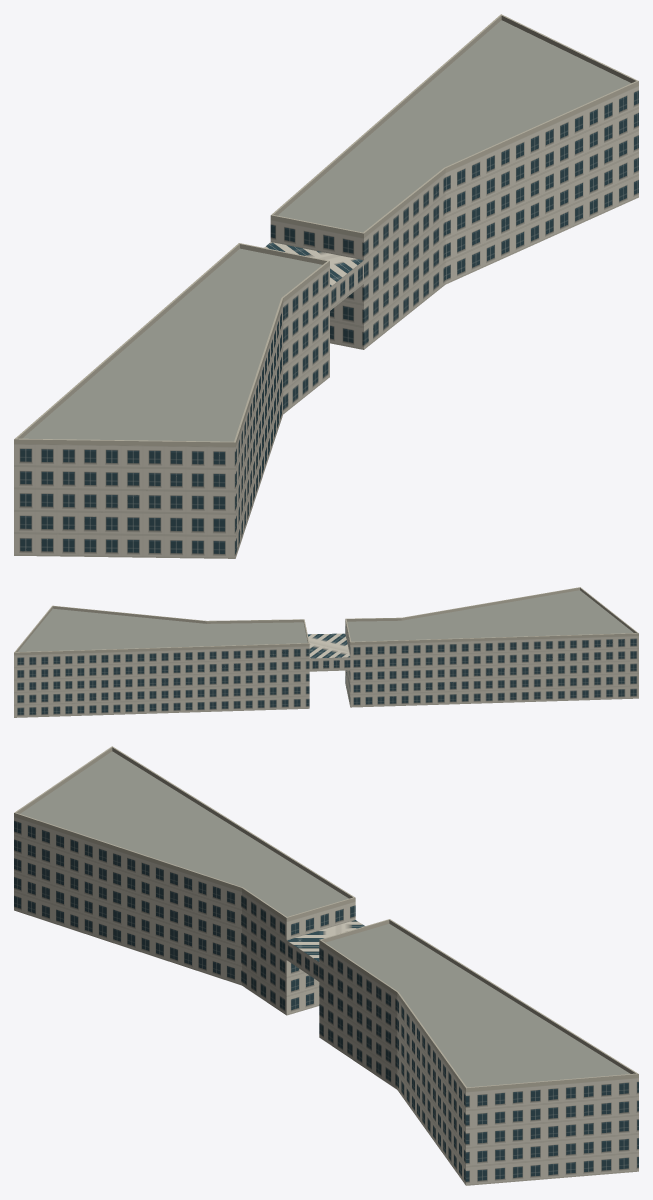
3 views of the same model, one above another, from view 1: azimuth 30°, elevation 25°; view 2: azimuth 150°, elevation 25°; view 3: azimuth 270°, elevation 25° (orthographic). The views are drawn at different scales.
Visible parts, largest first — view 1: B14_admin, B14_admin_1, B14_admin_parapet_1, B14_admin_parapet, B14_admin_upper_bridge; view 2: B14_admin_1, B14_admin, B14_admin_parapet_1, B14_admin_parapet, B14_admin_upper_bridge; view 3: B14_admin_1, B14_admin, B14_admin_parapet, B14_admin_parapet_1, B14_admin_upper_bridge.
Boxes of the visible parts, box(x1,y1,x2,y2) form: B14_admin: box(14, 248, 329, 558); B14_admin_1: box(270, 20, 638, 349); B14_admin_parapet_1: box(270, 14, 638, 237); B14_admin_parapet: box(14, 243, 329, 446); B14_admin_upper_bridge: box(264, 242, 363, 310); B14_admin_1: box(14, 608, 309, 717); B14_admin: box(345, 590, 638, 707); B14_admin_parapet_1: box(14, 605, 309, 655); B14_admin_parapet: box(345, 587, 638, 644); B14_admin_upper_bridge: box(307, 633, 350, 671); B14_admin_1: box(319, 923, 638, 1185); B14_admin: box(14, 751, 355, 1015); B14_admin_parapet: box(14, 746, 355, 921); B14_admin_parapet_1: box(319, 919, 638, 1091); B14_admin_upper_bridge: box(286, 920, 364, 981).
Bounding box in the file's own units: 153 × 20.3 × 118.
3 materials, 1 textured.
